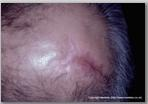NonPU: (60, 47, 110, 83)
